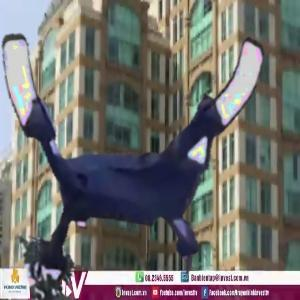drone: (2, 7, 287, 292)
